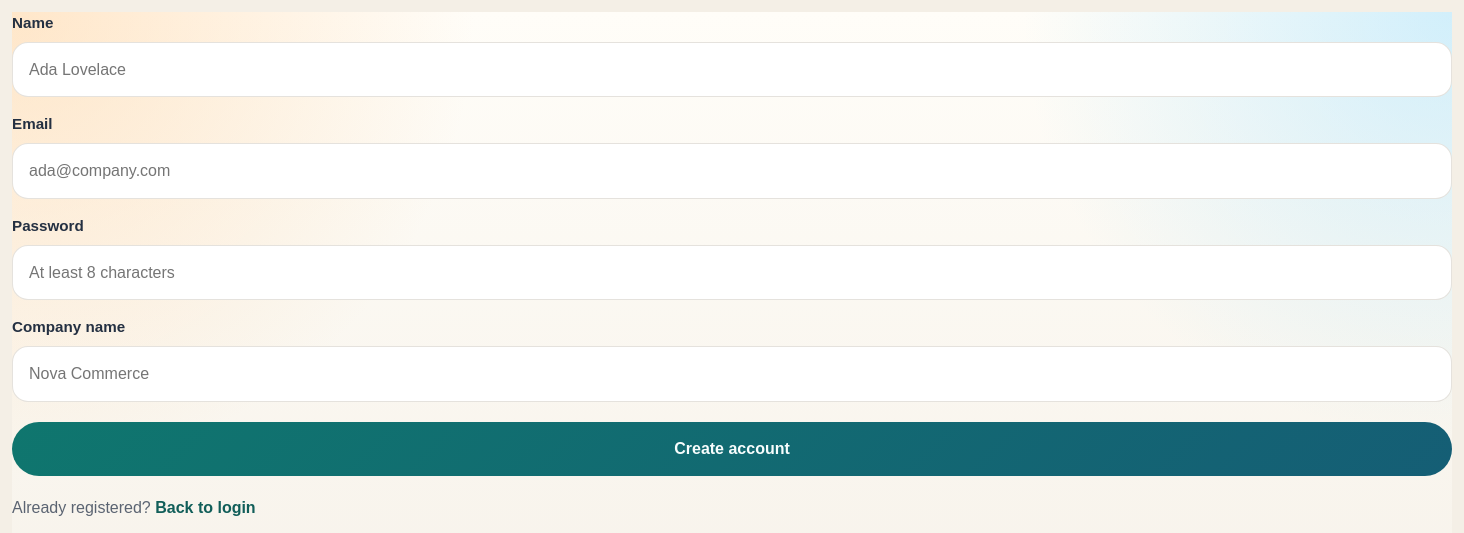
RegisterForm › shows a "check your email" message after a successful registration
Type "Ada" into the field labelled "Name" at (732, 70), box [12,42,1452,97]
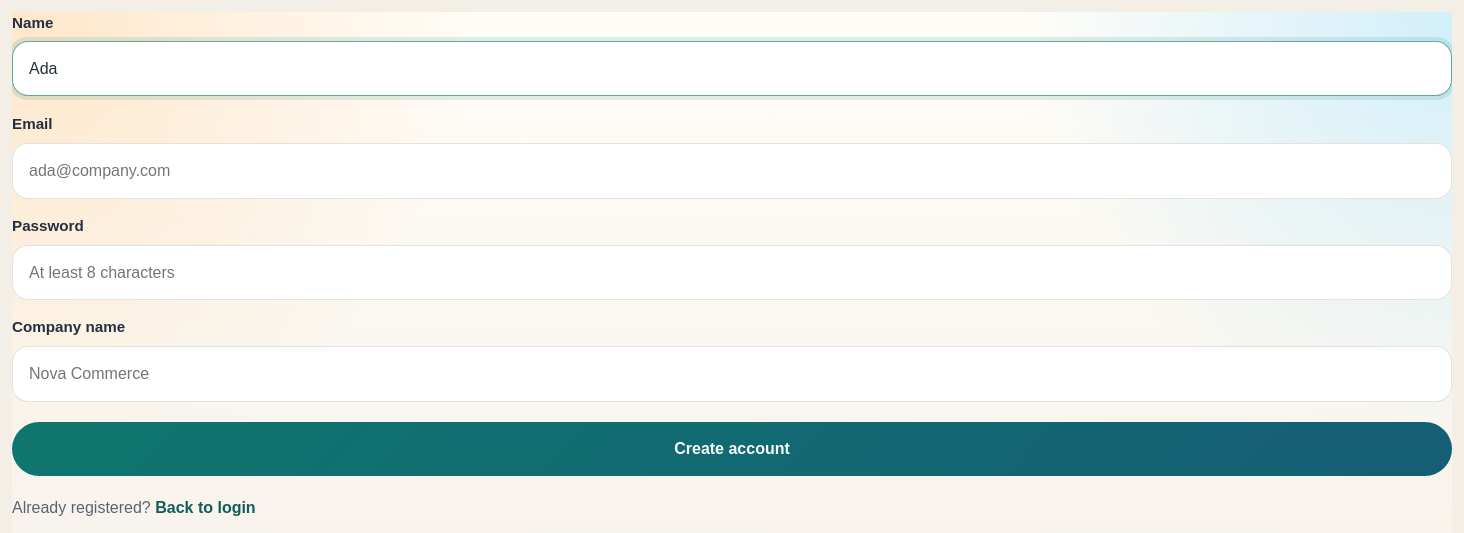
Type "ada@example.com" into the field labelled "Email" at (732, 171), box [12,143,1452,199]
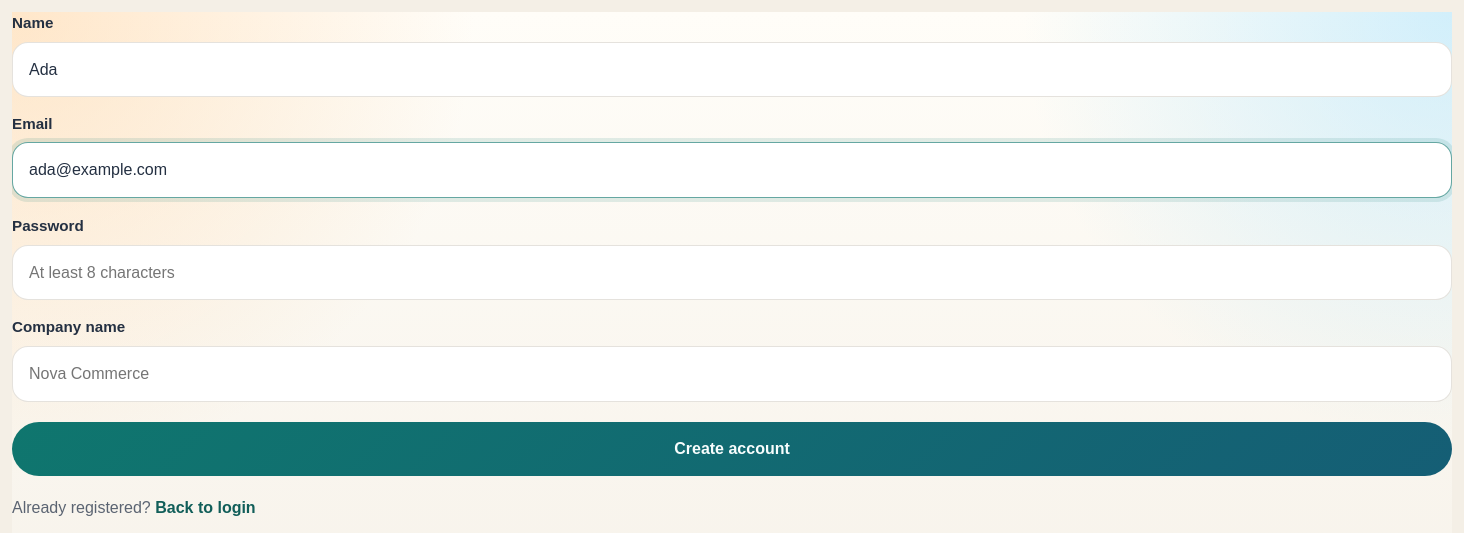
Type "password123" into the password field labelled "Password" at (732, 272), box [12,245,1452,300]
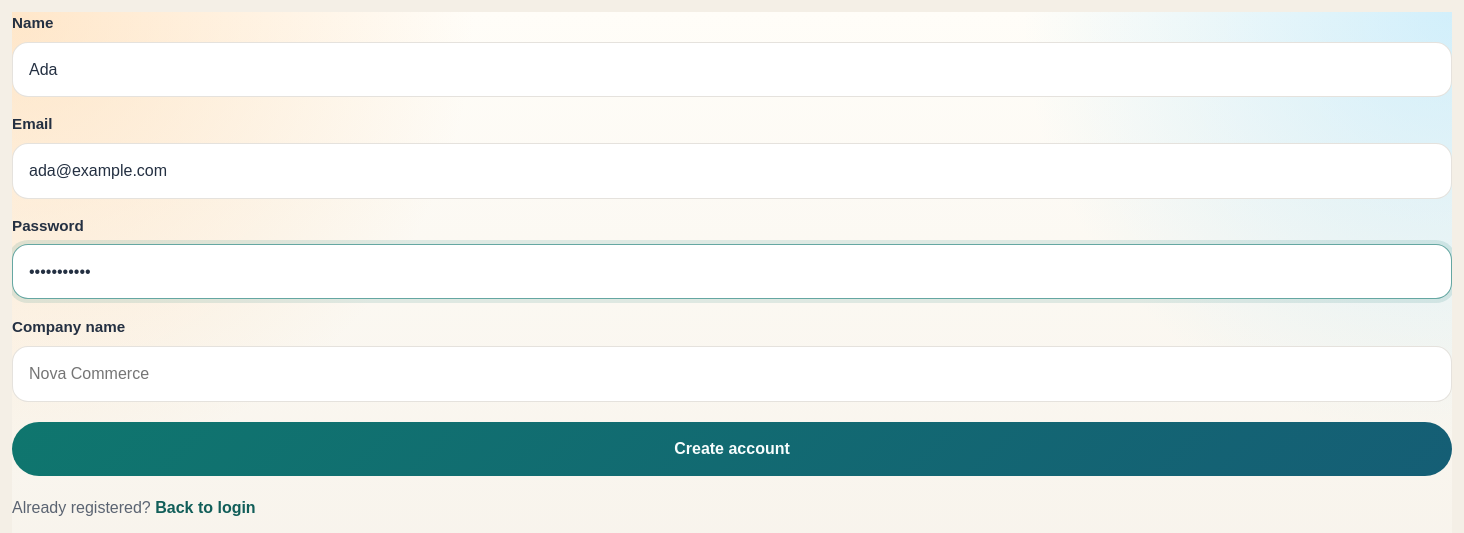
Type "Nova" into the field labelled "Company name" at (732, 374), box [12,346,1452,402]
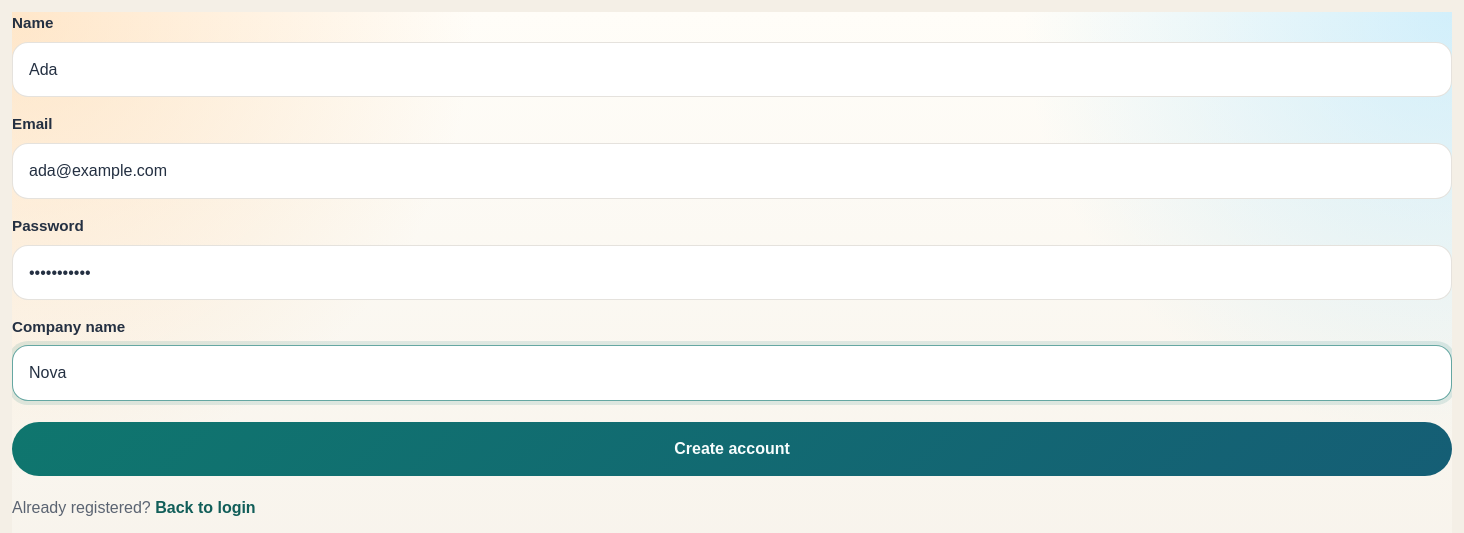
Click the button "Create account" at (732, 449), box [12,422,1452,476]
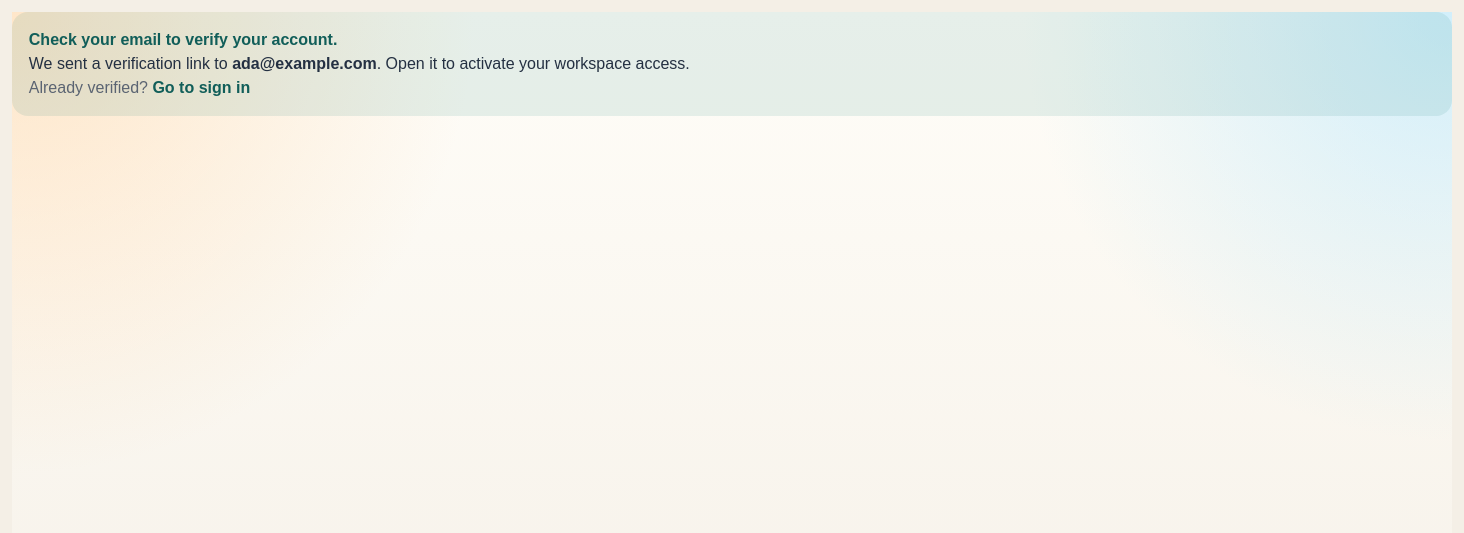
Expected: the text "Check your email to verify your account." is shown, [29,31,337,48]
Expected: the text "We sent a verification link to" is shown, [29,55,232,72]
